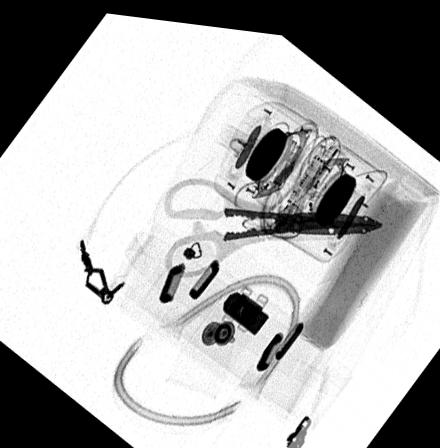Scissors: (162, 168, 382, 273)
